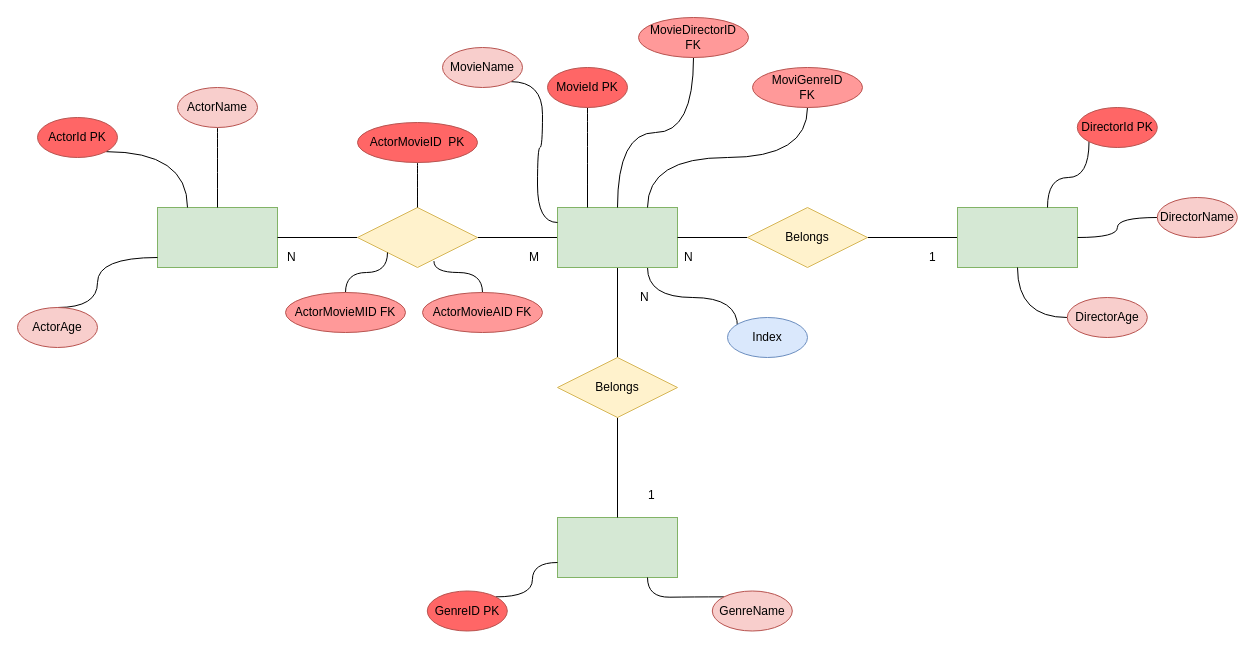
Image size: 1255x649. Some labels were removed from this diagram. Here are the shapes that lost their labels. From the top down, the centre of each, then its label:
the point at 217,237: Actor
the point at 417,237: Belongs(ActroMovie)
the point at 617,237: Movie
the point at 1017,237: Directors
the point at 617,547: Genre
